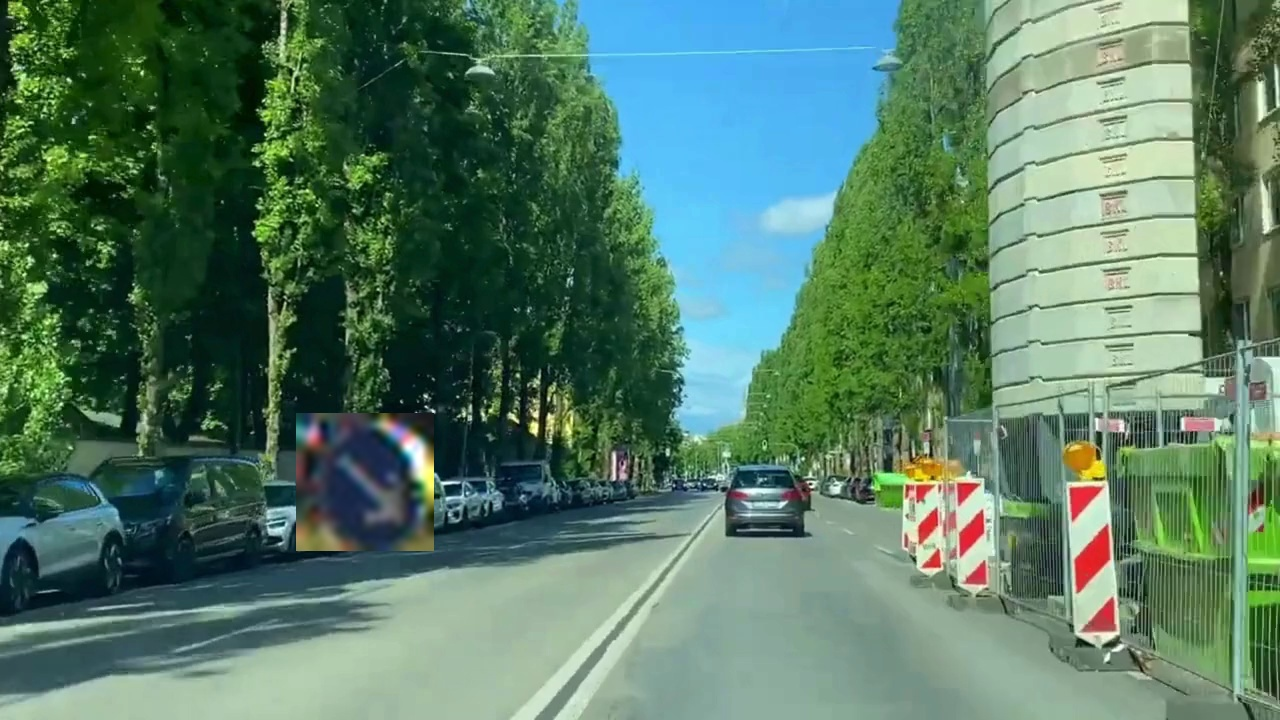Keep right: (296, 413, 434, 551)
